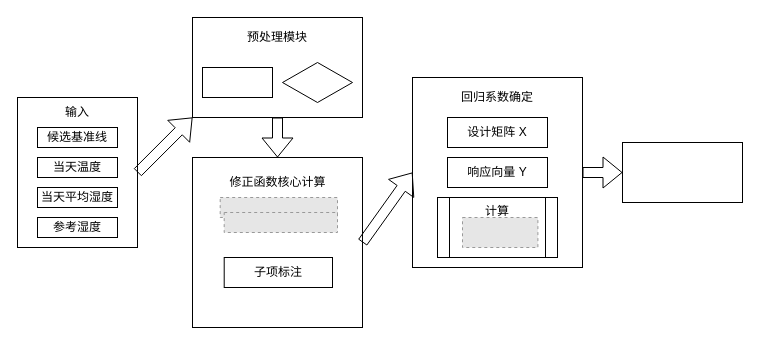
The diagram is 760 pixels wide and 353 high, and some of its shapes have lost their labels. Grey dashed boxes stand in for pictures. The centre of each missing label's shape, as x and y in pixels:
参数校验: the point at 317,82
计算平均温度: the point at 237,82
输出最终基准线: the point at 682,172
